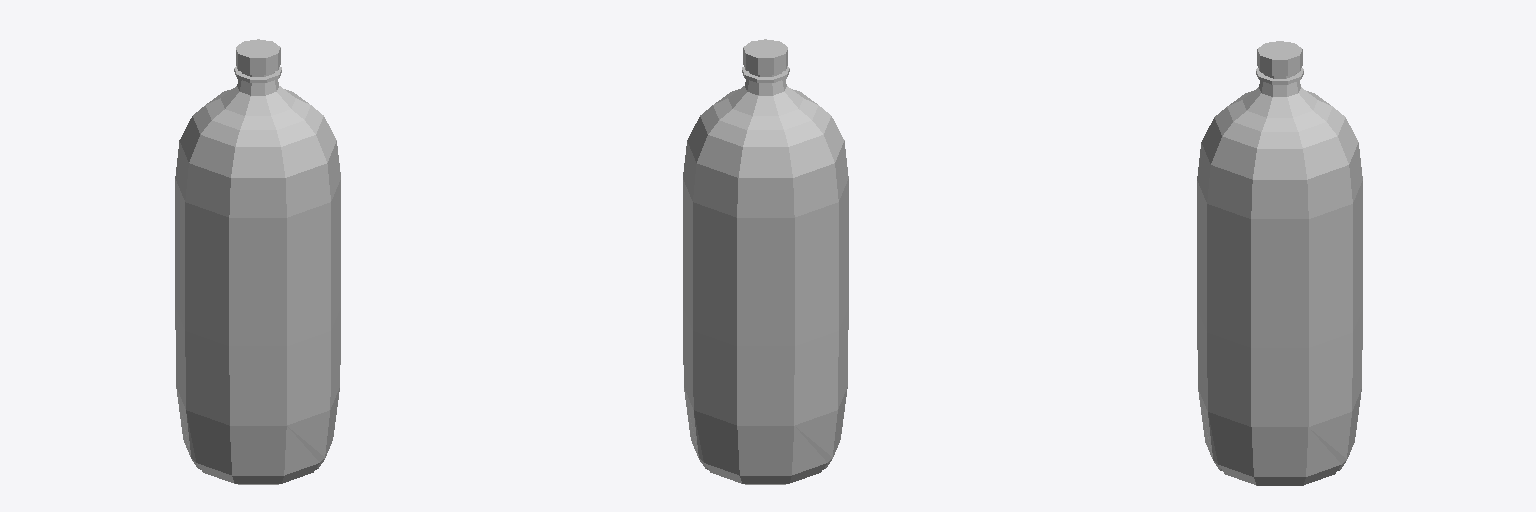
File: 2L_Bottle.obj
3 views of the same model, side by side, from view 1: azimuth 30°, elevation 25°; view 2: azimuth 150°, elevation 25°; view 3: azimuth 270°, elevation 25° (orthographic).
Visible parts, largest first — view 1: 2L_Bottle; view 2: 2L_Bottle; view 3: 2L_Bottle.
Boxes of the visible parts, x1=… form: 2L_Bottle: x1=175, y1=39, x2=340, y2=484; 2L_Bottle: x1=683, y1=39, x2=848, y2=484; 2L_Bottle: x1=1197, y1=41, x2=1362, y2=485.
Size of the model in its own units: 10.67 by 29.75 by 10.83.